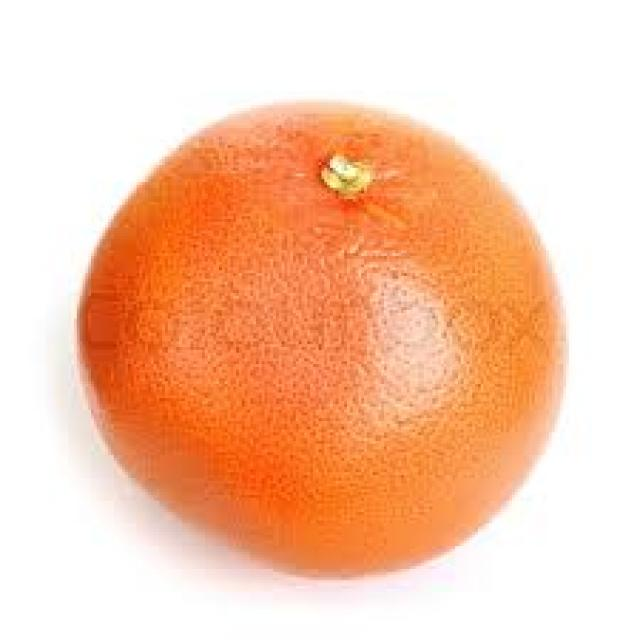organic waste: (71, 102, 558, 578)
